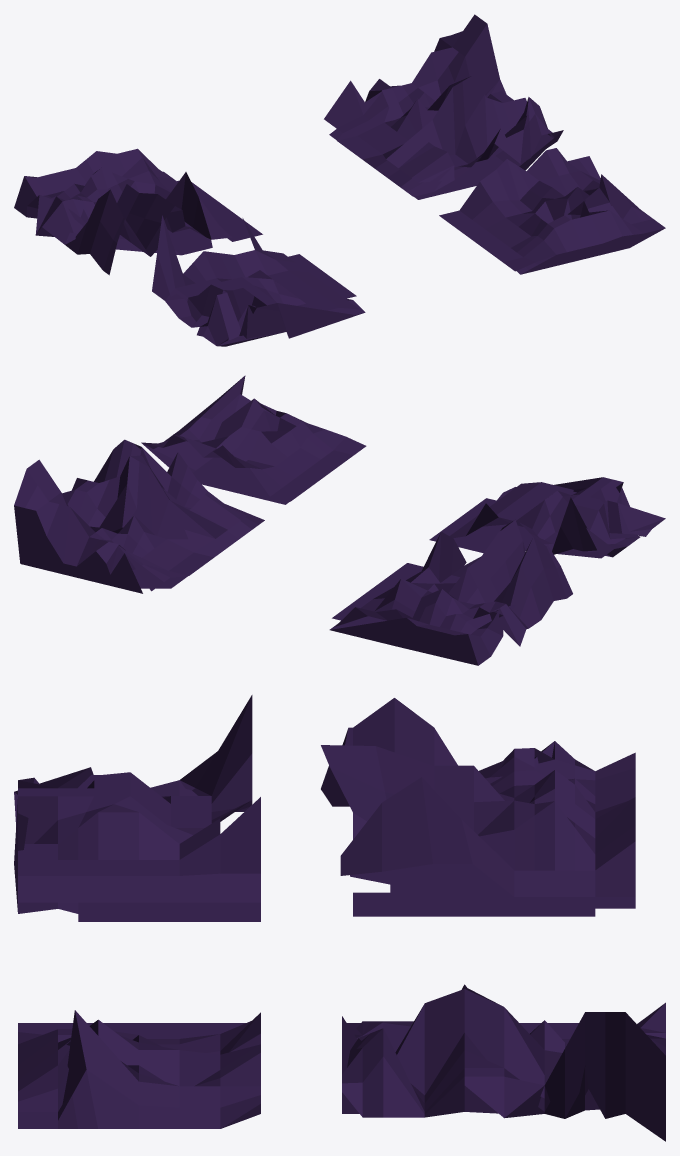
The model's file is terrain.glb.
The picture shows the model from 3 angles, top to bottom: view 1: azimuth 30°, elevation 25°; view 2: azimuth 150°, elevation 25°; view 3: azimuth 270°, elevation 25°; orthographic projection. The views are drawn at different scales.
Parts seen in each view (by area): view 1: Cube.002, Cube.001, Cube.003, Cube.004; view 2: Cube.002, Cube.001, Cube.003, Cube.004; view 3: Cube.001, Cube.004, Cube.002, Cube.003.
Part boxes in pixels (x1=…): Cube.002: x1=324, y1=14, x2=563, y2=199; Cube.001: x1=14, y1=148, x2=262, y2=275; Cube.003: x1=439, y1=148, x2=665, y2=274; Cube.004: x1=152, y1=215, x2=365, y2=346; Cube.002: x1=14, y1=439, x2=264, y2=593; Cube.001: x1=329, y1=519, x2=572, y2=665; Cube.003: x1=141, y1=375, x2=366, y2=504; Cube.004: x1=429, y1=477, x2=665, y2=558; Cube.001: x1=321, y1=698, x2=635, y2=916; Cube.004: x1=14, y1=695, x2=260, y2=921; Cube.002: x1=342, y1=984, x2=665, y2=1141; Cube.003: x1=18, y1=1010, x2=260, y2=1128.
Bounding box in the file's own units: 16.77 × 3.12 × 12.75.
